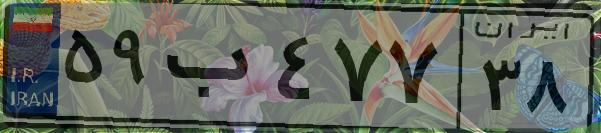3: (475, 38, 525, 113)
4: (270, 28, 330, 110)
5: (57, 26, 110, 100)
7: (385, 28, 445, 110), (330, 28, 385, 110)
8: (525, 38, 570, 115)
9: (110, 28, 158, 98)
ب: (158, 20, 270, 120)
